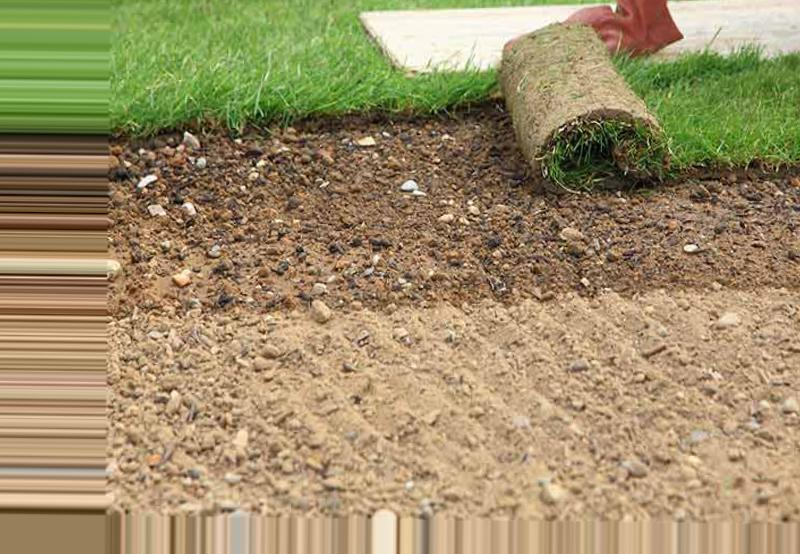patch: (154, 322, 776, 503), (148, 144, 540, 284)
